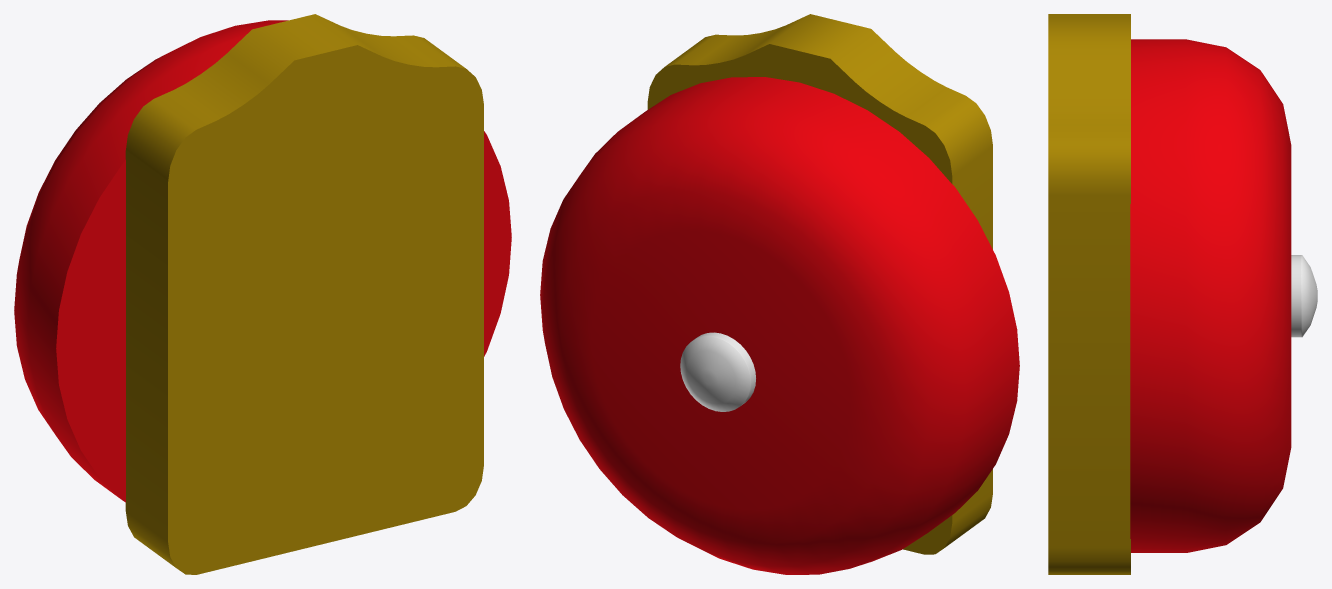
File: dzwonek_final.fbx
3 renders of one model, left to right at view 1: azimuth 30°, elevation 25°; view 2: azimuth 150°, elevation 25°; view 3: azimuth 270°, elevation 25°, orthographic. The views are drawn at different scales.
Parts seen in each view (by area): view 1: Cube; view 2: Cube; view 3: Cube.
Boxes of the visible parts, left/top/right/bottom form: Cube: left=14, top=14, right=511, bottom=574; Cube: left=540, top=14, right=1019, bottom=574; Cube: left=1048, top=14, right=1317, bottom=574.
Size of the model in its own units: 43.06 by 45.99 by 22.57.
